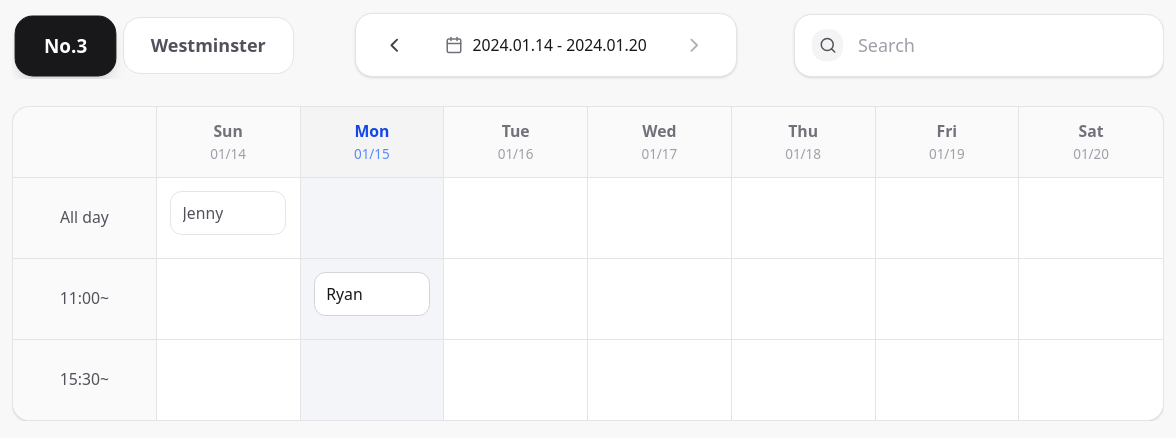
Test case: ScheduleViewer › 초기 로드 › 직원 목록이 드롭다운에 로드된다
This screenshot has width=1176, height=438.
Note: 서치바 클릭하여 드롭다운 열기
Click the dropdown: [979, 45] box 794,14 -> 1164,77
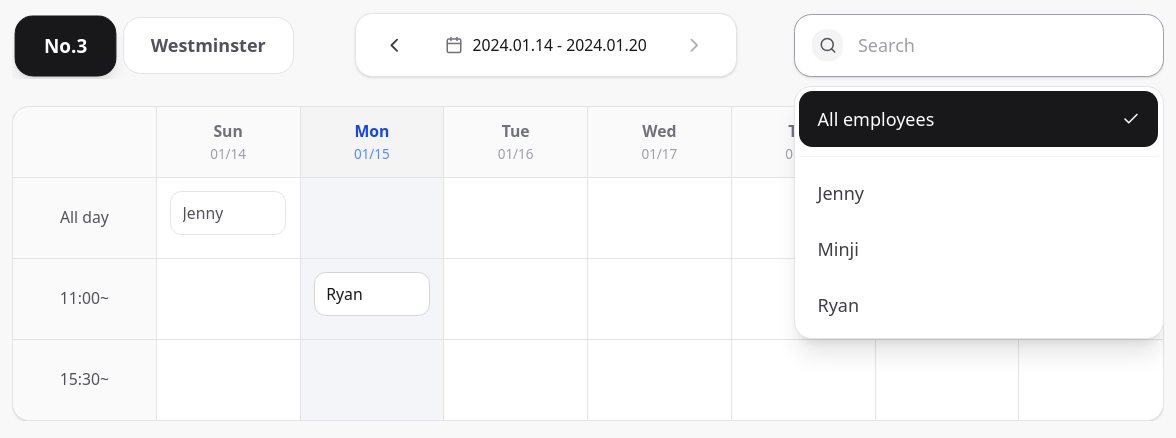
Now the option "Jenny" is shown, box 800,166 -> 1158,222
Now the option "Minji" is shown, box 800,222 -> 1158,277
Now the option "Ryan" is shown, box 800,277 -> 1158,333
